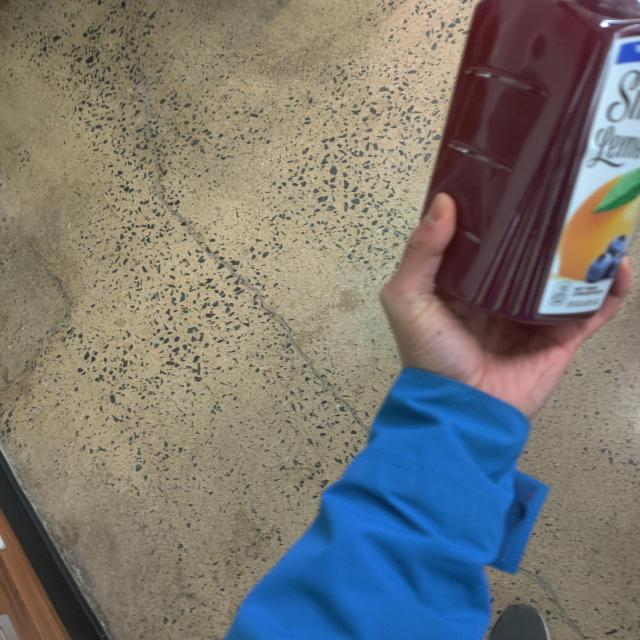Juice: (421, 0, 639, 354)
